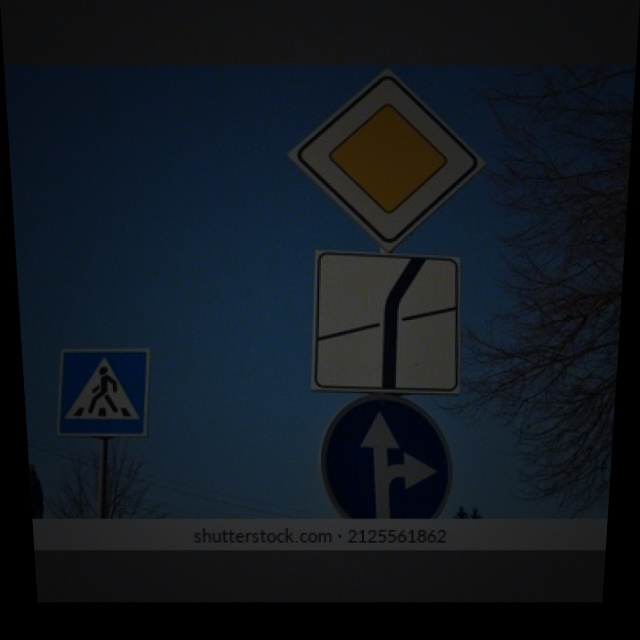Compulsory_Ahead_or_Turn_Right: (325, 400, 454, 517)
